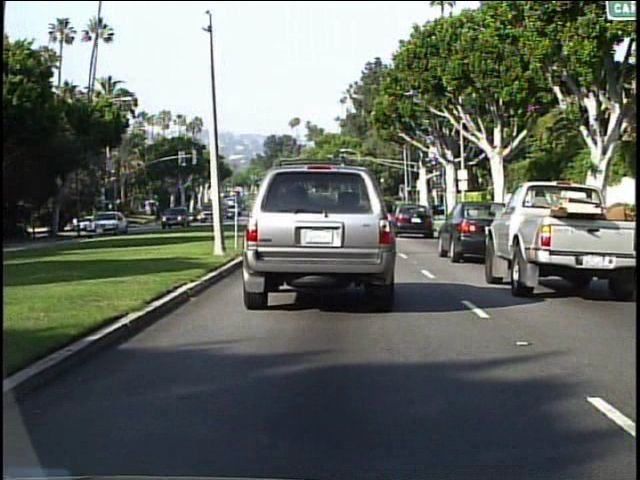person: (70, 212, 81, 234)
